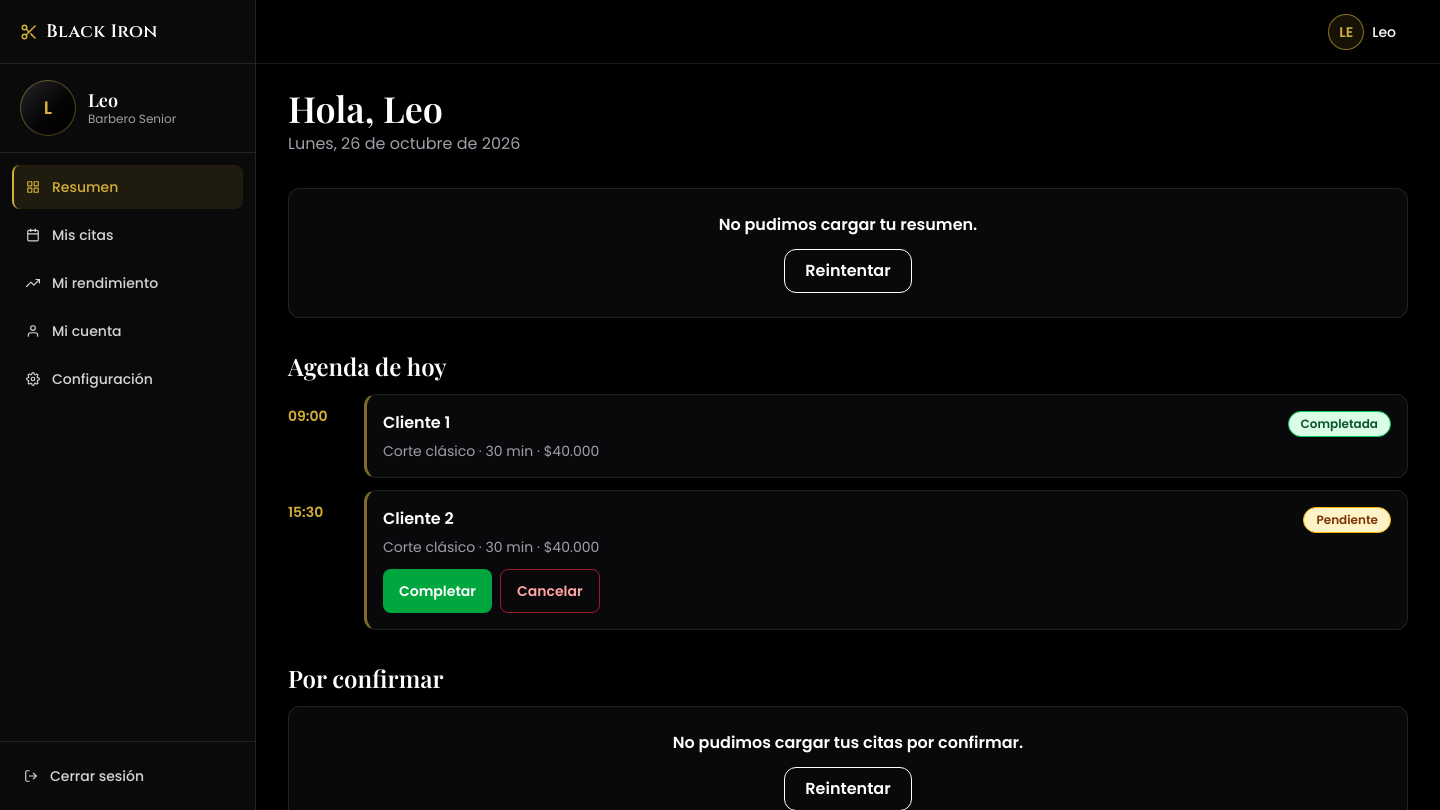
Test: Resumen › error: ErrorCarga con "Reintentar" que vuelve a pedir y muestra los datos
The width and height of the screenshot is (1440, 810).
What coordinates should you click on to do the following:
click the button "Reintentar" below "No pudimos cargar tu resumen."
I would click on:
 (848, 271)
Its box is [784,249,912,293].
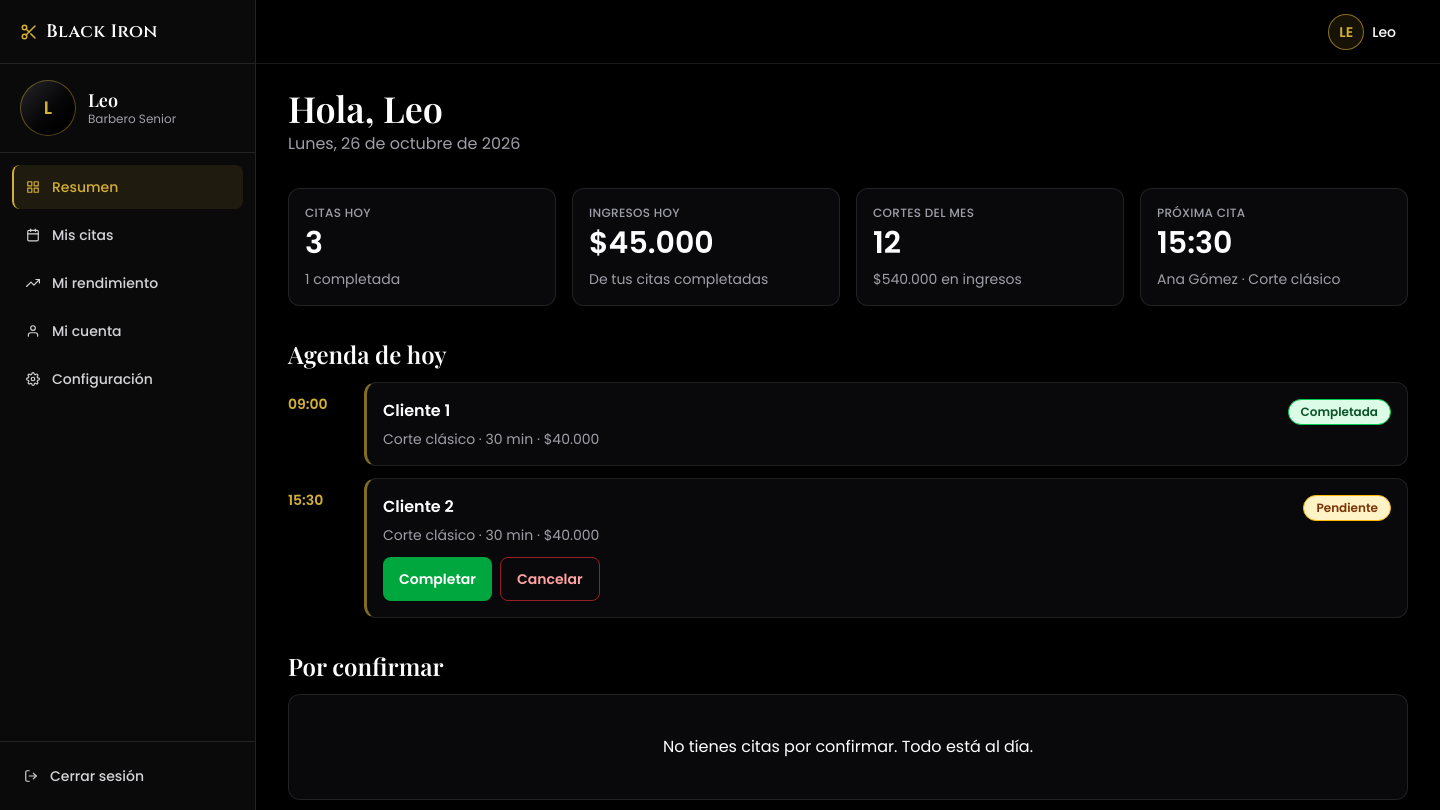
Result: the element named "Cifras de hoy y del mes" is shown at [288,188,1408,306]
